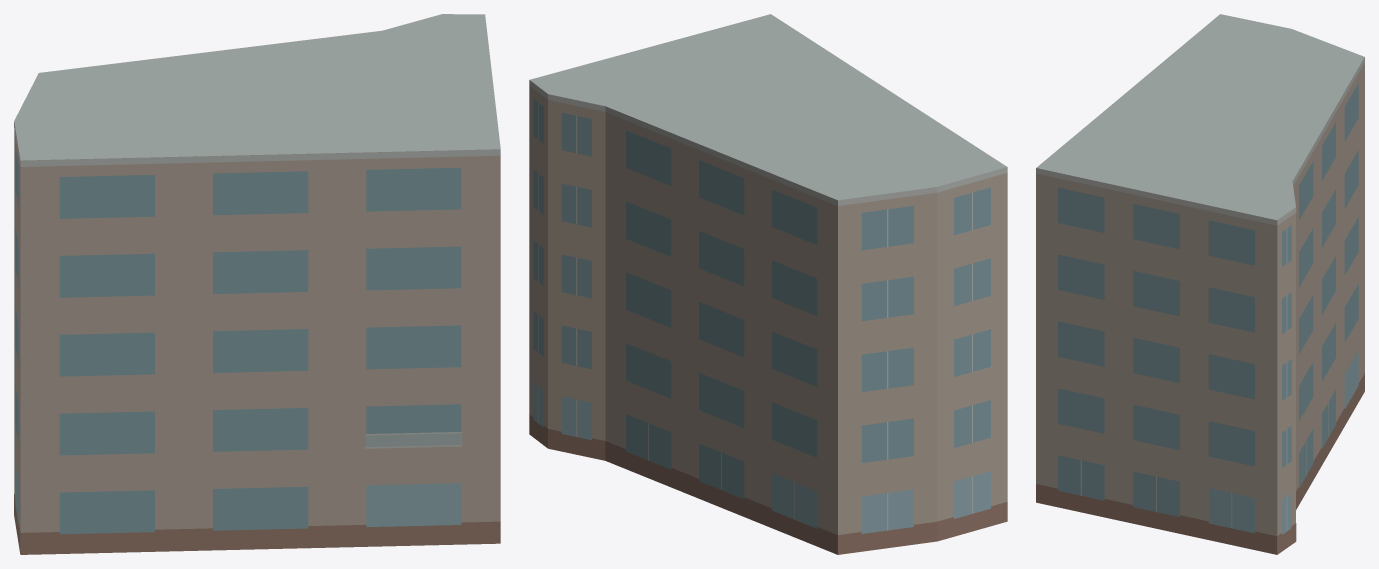
Rendered from survey-upis-32999242.glb.
3 renders of one model, left to right at view 1: azimuth 30°, elevation 25°; view 2: azimuth 150°, elevation 25°; view 3: azimuth 270°, elevation 25°, orthographic. The views are drawn at different scales.
Visible parts, largest first — view 1: survey-upis-32999242.tmp; view 2: survey-upis-32999242.tmp; view 3: survey-upis-32999242.tmp.
Boxes of the visible parts, x1=… form: survey-upis-32999242.tmp: x1=14, y1=14, x2=500, y2=554; survey-upis-32999242.tmp: x1=529, y1=14, x2=1007, y2=554; survey-upis-32999242.tmp: x1=1036, y1=14, x2=1364, y2=554.
Bounding box in the file's own units: 19.78 × 14.95 × 13.32.
